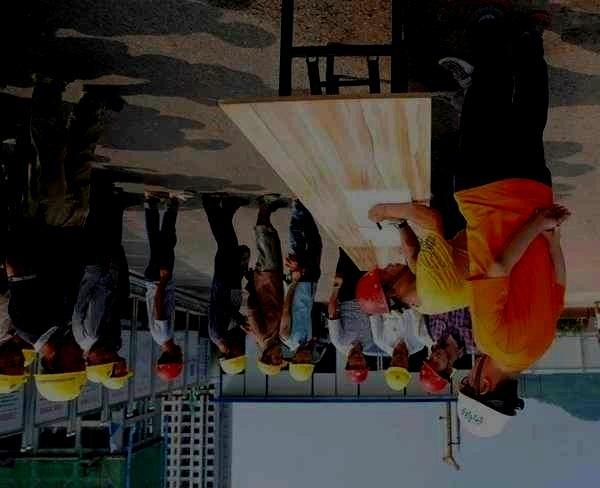helmet: (455, 353, 525, 440), (31, 339, 89, 402), (354, 262, 411, 315), (418, 346, 453, 395), (1, 346, 31, 394), (84, 347, 118, 384), (218, 335, 248, 376), (154, 344, 185, 382), (383, 352, 413, 391), (102, 357, 134, 391), (255, 342, 284, 376), (288, 347, 315, 383), (344, 350, 370, 385), (19, 337, 37, 367)
